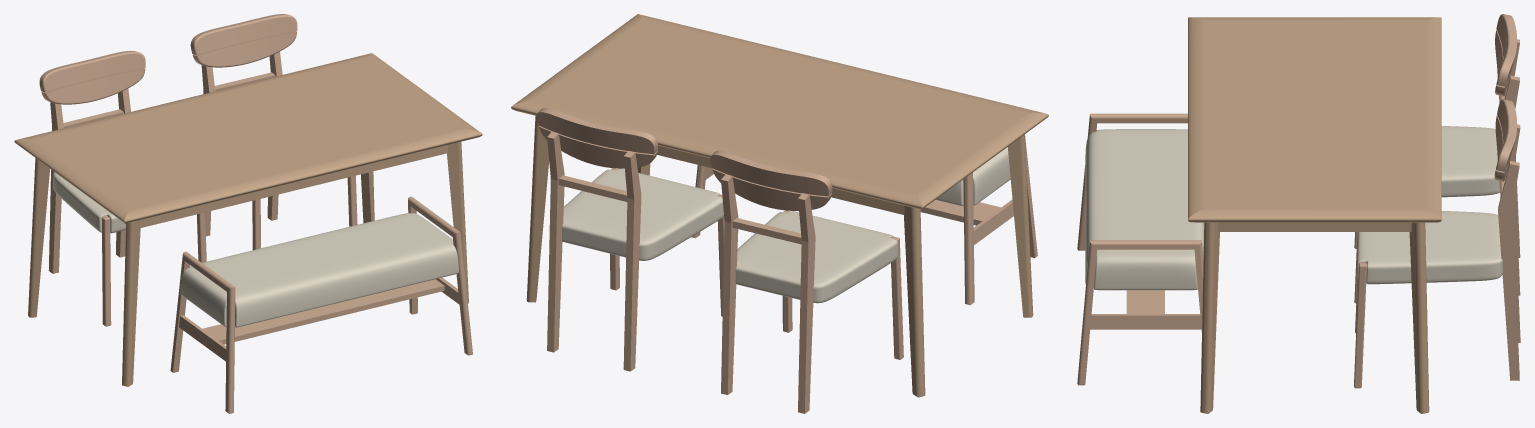
File: 544_ダイニングテーブルセット4人掛け.glb
3 views of the same model, side by side, from view 1: azimuth 30°, elevation 25°; view 2: azimuth 150°, elevation 25°; view 3: azimuth 270°, elevation 25° (orthographic). The views are drawn at different scales.
Visible parts, largest first — view 1: Body, bench, chair1, chair2; view 2: Body, chair1, chair2, bench; view 3: Body, bench, chair2, chair1.
Part boxes in pixels (x1,y1,x2,y2): Body: (14, 53, 482, 386); bench: (170, 196, 472, 413); chair1: (39, 50, 206, 326); chair2: (190, 14, 357, 250); Body: (511, 14, 1048, 397); chair1: (710, 150, 903, 413); chair2: (536, 108, 724, 371); bench: (691, 134, 1037, 305); Body: (1188, 17, 1441, 413); bench: (1077, 113, 1214, 385); chair2: (1354, 99, 1520, 388); chair1: (1354, 14, 1520, 303).
Bounding box in the file's own units: 1.5 × 0.8192 × 1.39.
